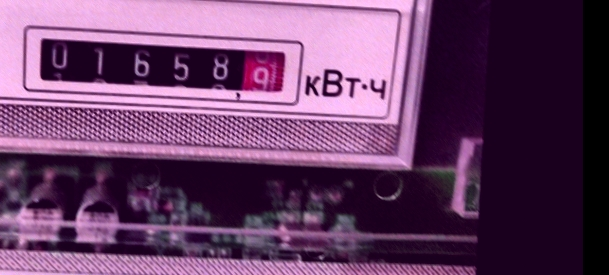0: (47, 35, 70, 68)
1: (91, 42, 106, 73)
5: (171, 47, 192, 80)
6: (131, 44, 153, 76)
8: (210, 47, 231, 80)
9: (250, 61, 269, 88)
screen: (13, 13, 308, 108)
